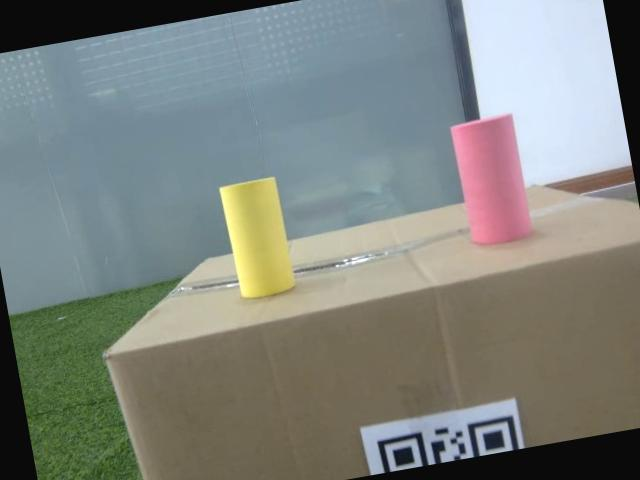red_cylinder: (446, 108, 534, 248)
yellow_cylinder: (213, 172, 300, 304)
